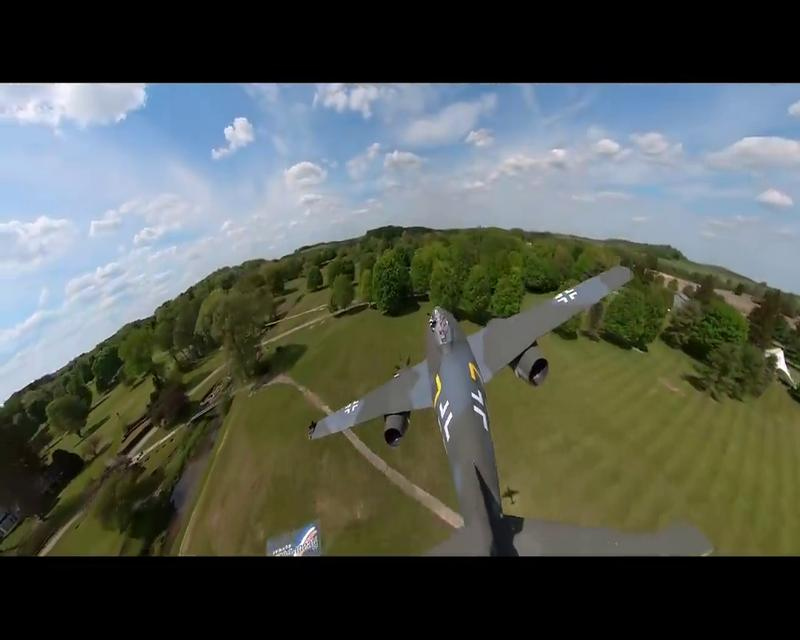UAV: (306, 260, 635, 555)
